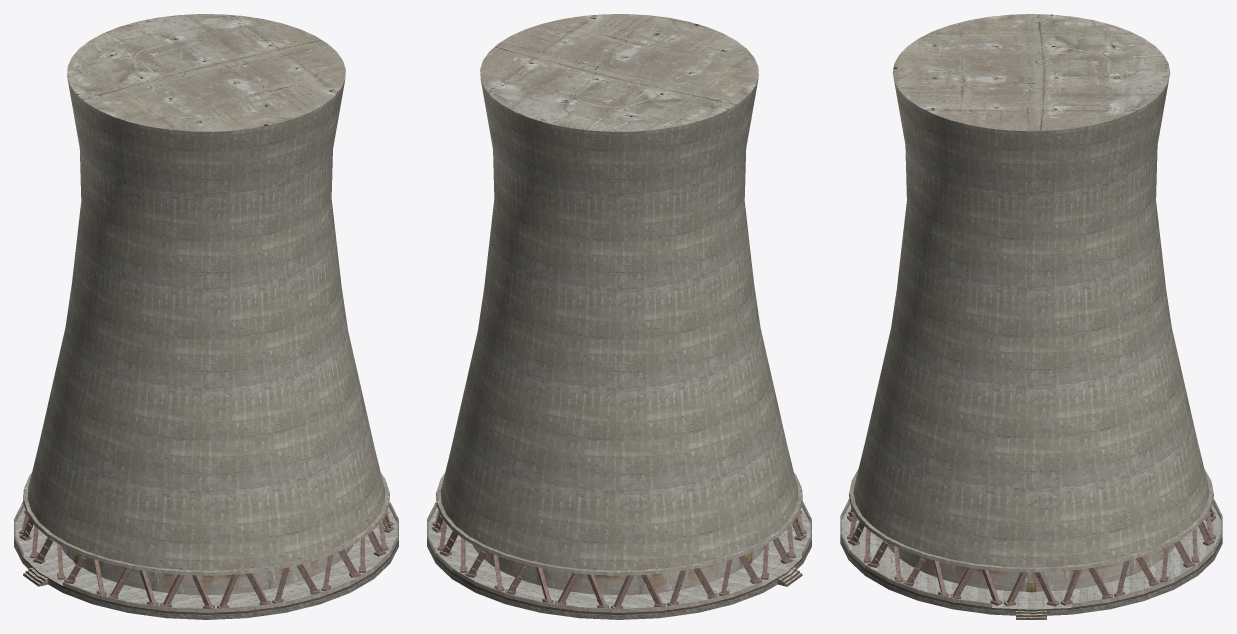
The model's file is NuclearPlant.fbx.
3 views of the same model, side by side, from view 1: azimuth 30°, elevation 25°; view 2: azimuth 150°, elevation 25°; view 3: azimuth 270°, elevation 25° (orthographic).
Parts seen in each view (by area): view 1: NuclearPlant; view 2: NuclearPlant; view 3: NuclearPlant.
Boxes of the visible parts, x1,y1,x2,y2 form: NuclearPlant: (14, 14, 398, 619); NuclearPlant: (427, 14, 811, 619); NuclearPlant: (840, 14, 1222, 619).
Bounding box in the file's own units: 2902 × 3681 × 2758.
